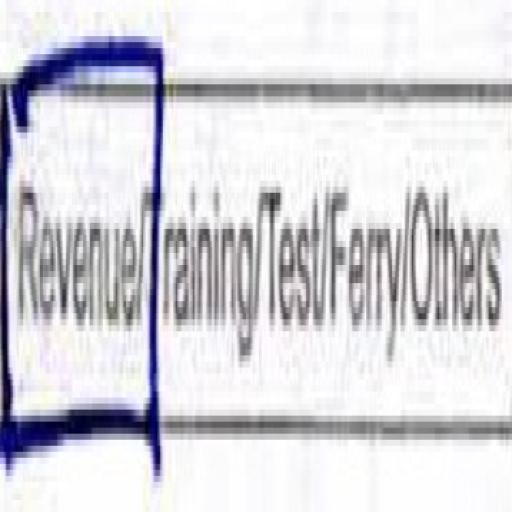check: (0, 0, 143, 500)
